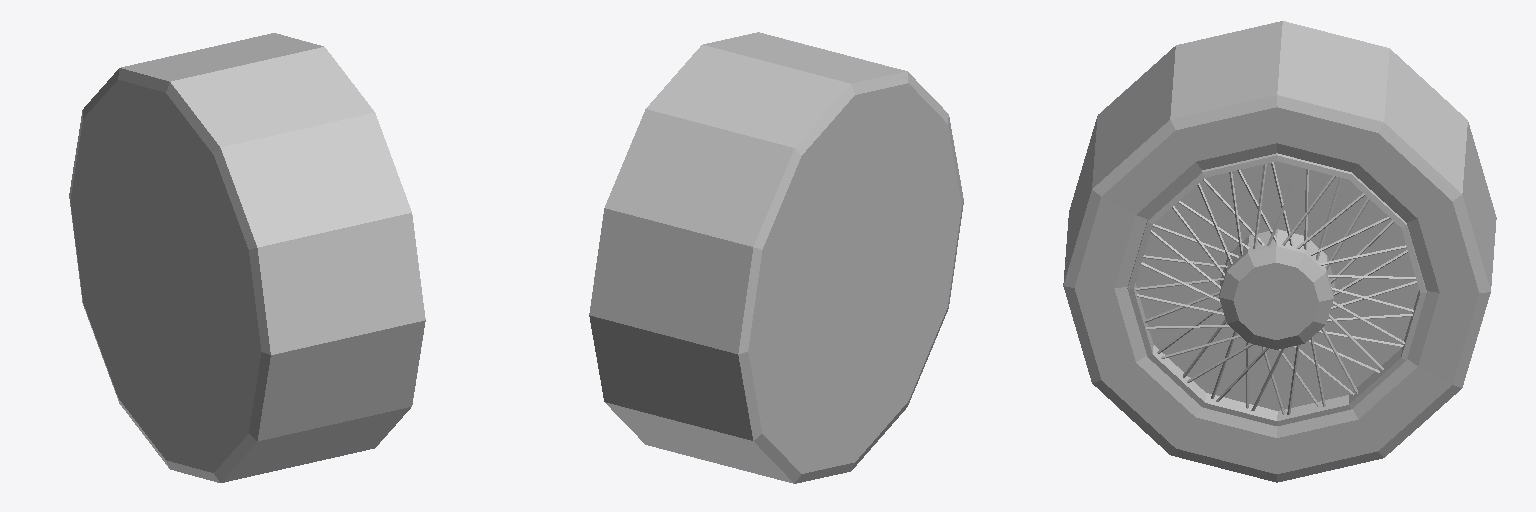
File: llantaSupIzq.obj
3 renders of one model, left to right at view 1: azimuth 30°, elevation 25°; view 2: azimuth 150°, elevation 25°; view 3: azimuth 270°, elevation 25°, orthographic.
Visible parts, largest first — view 1: Left_superior_wheel_Mesh.002; view 2: Left_superior_wheel_Mesh.002; view 3: Left_superior_wheel_Mesh.002.
Boxes of the visible parts, box(x1,y1,x2,y2) form: Left_superior_wheel_Mesh.002: box(69, 33, 425, 482); Left_superior_wheel_Mesh.002: box(589, 32, 963, 483); Left_superior_wheel_Mesh.002: box(1063, 21, 1496, 482).
Size of the model in its own units: 1.3 by 2.56 by 2.59.